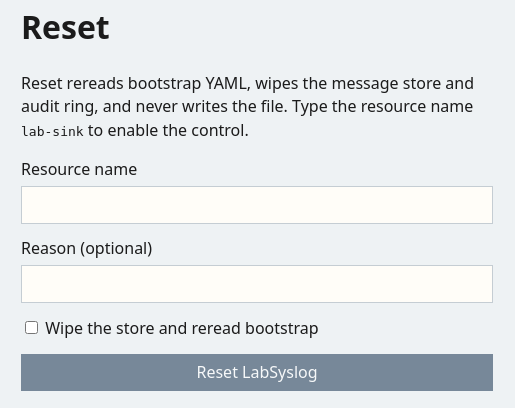
Test: ResetPage › keeps reset disabled until the resource name is typed and confirmed
The image size is (515, 408).
Expected: the button "Reset LabSyslog" is disabled, [21,354,493,391]
Expected: the text "lab-sink" is shown, [21,124,84,139]
Type "lab-sink" into the field labelled "Resource name" at (257, 205), box [21,186,493,224]
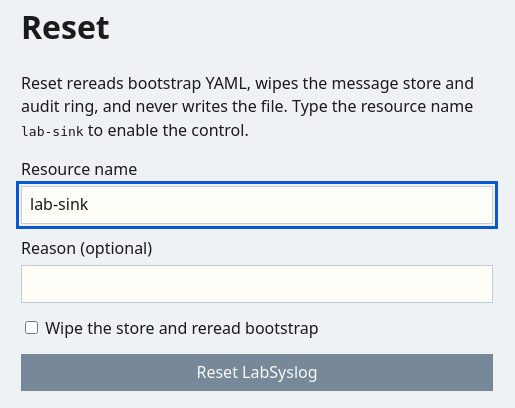
Expected: the button "Reset LabSyslog" is disabled, [21,354,493,391]
Click the checkbox labelled "Wipe the store and reread bootstrap" at (32, 327), box [25,321,38,334]
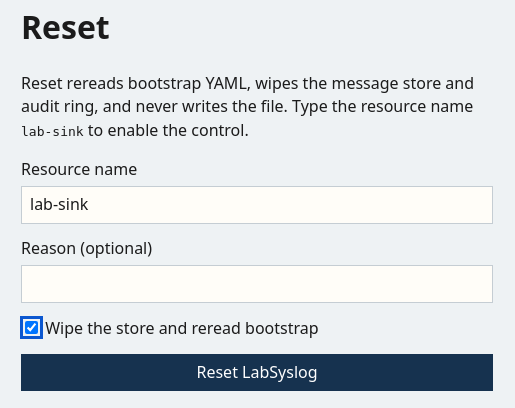
Result: the button "Reset LabSyslog" is enabled at [21,354,493,391]
